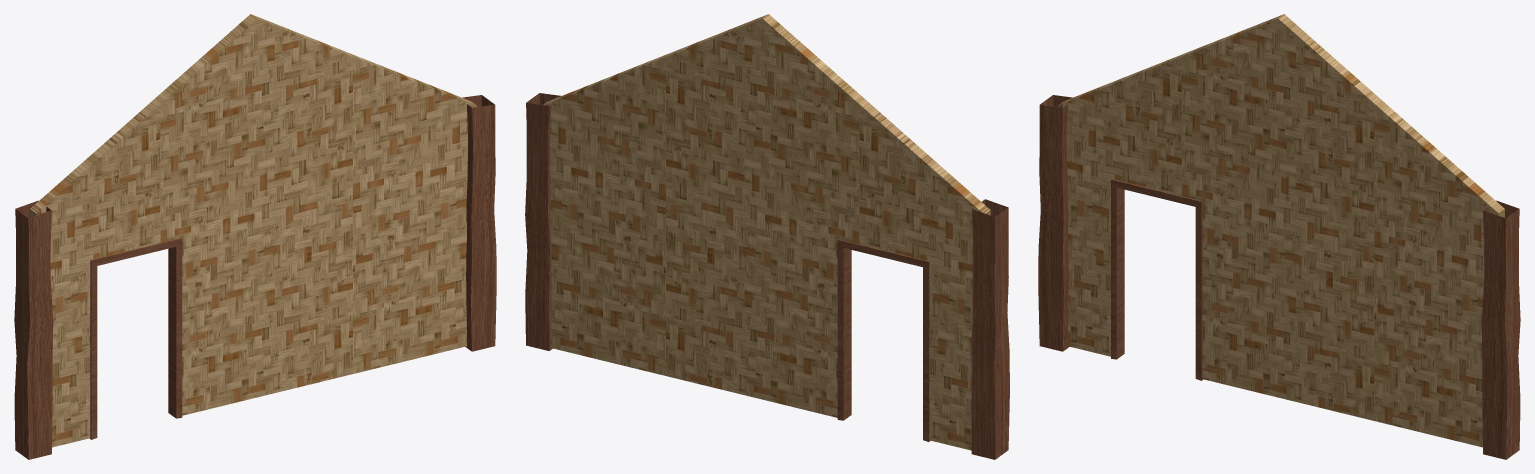
File: R4_Belakang.fbx
3 views of the same model, side by side, from view 1: azimuth 30°, elevation 25°; view 2: azimuth 150°, elevation 25°; view 3: azimuth 330°, elevation 25° (orthographic).
Parts seen in each view (by area): view 1: T_Depan_R4.002; view 2: T_Depan_R4.002; view 3: T_Depan_R4.002.
Boxes of the visible parts, left/top/right/bottom form: T_Depan_R4.002: left=14, top=14, right=496, bottom=459; T_Depan_R4.002: left=525, top=14, right=1009, bottom=459; T_Depan_R4.002: left=1038, top=14, right=1520, bottom=459.
Size of the model in its own units: 13.03 by 10.11 by 0.6784.
2 materials, 2 textured.
